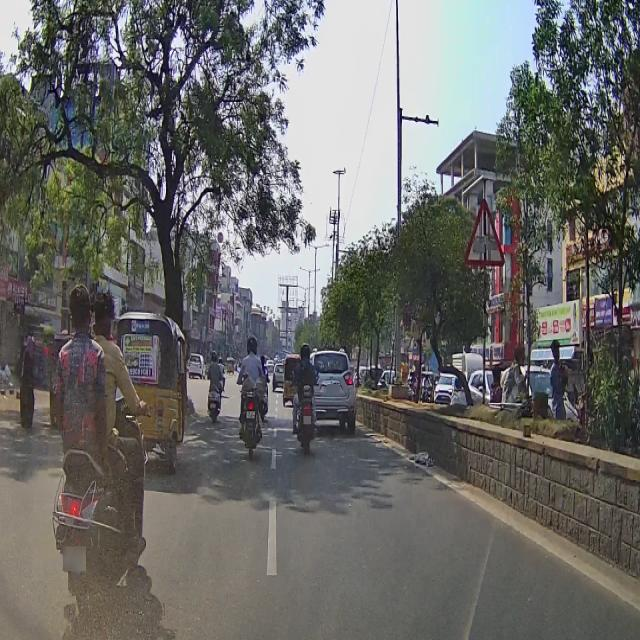car ahead at: (319, 348, 357, 428)
motorcycle ahead at: (44, 426, 140, 618)
